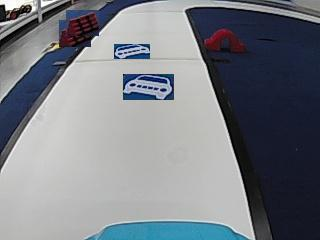bridge: (205, 28, 244, 52)
